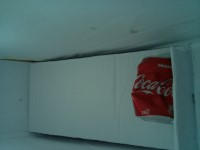kaleng: (130, 57, 174, 124)
